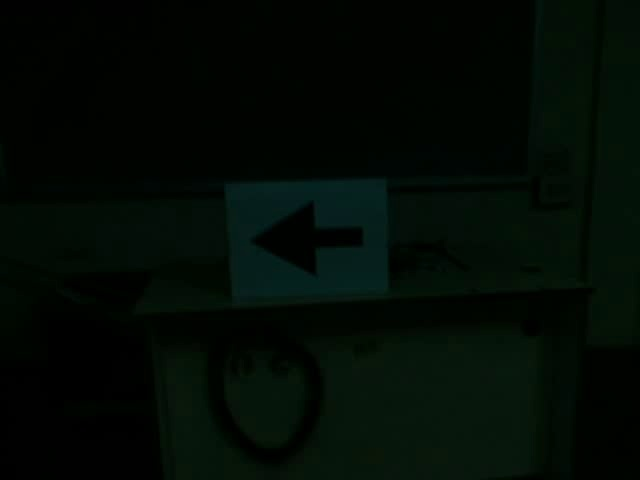Left: (247, 199, 371, 284)
